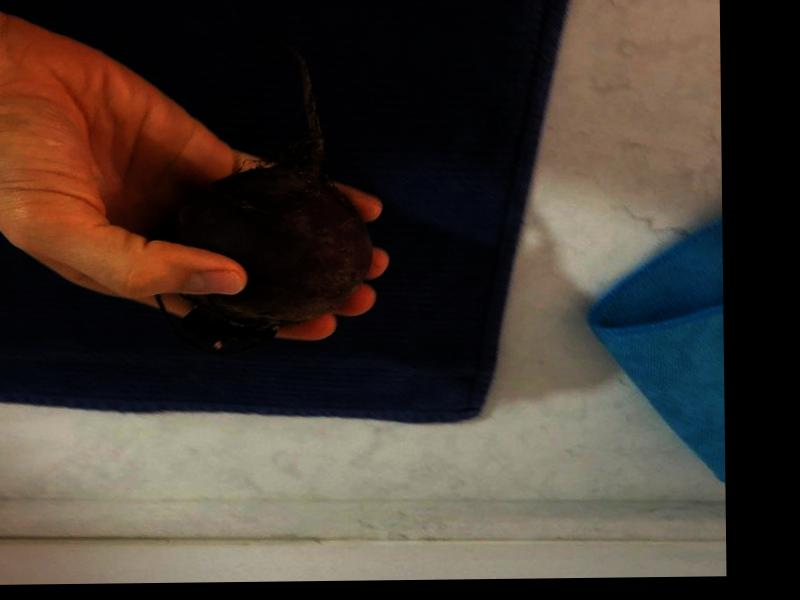Beet: (150, 43, 371, 353)
